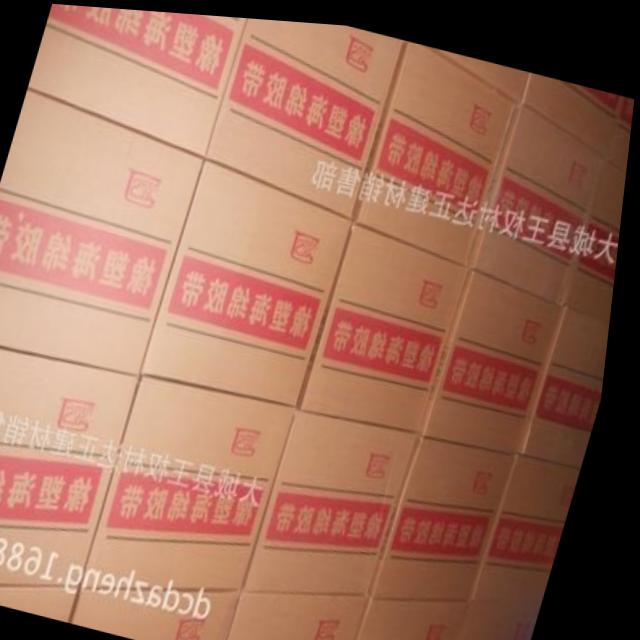box: (0, 88, 206, 371), (150, 157, 355, 399), (94, 373, 304, 586), (207, 14, 404, 211), (356, 35, 517, 256), (0, 346, 147, 584), (306, 217, 474, 425), (29, 3, 246, 155), (255, 403, 428, 587), (474, 97, 605, 295), (428, 262, 568, 444), (381, 427, 525, 592), (483, 444, 590, 592), (527, 299, 616, 458), (567, 149, 629, 313), (84, 585, 253, 640), (522, 64, 625, 149), (238, 587, 381, 640), (425, 39, 528, 95), (367, 591, 483, 640), (470, 590, 555, 640), (0, 585, 92, 620), (608, 86, 635, 160)
